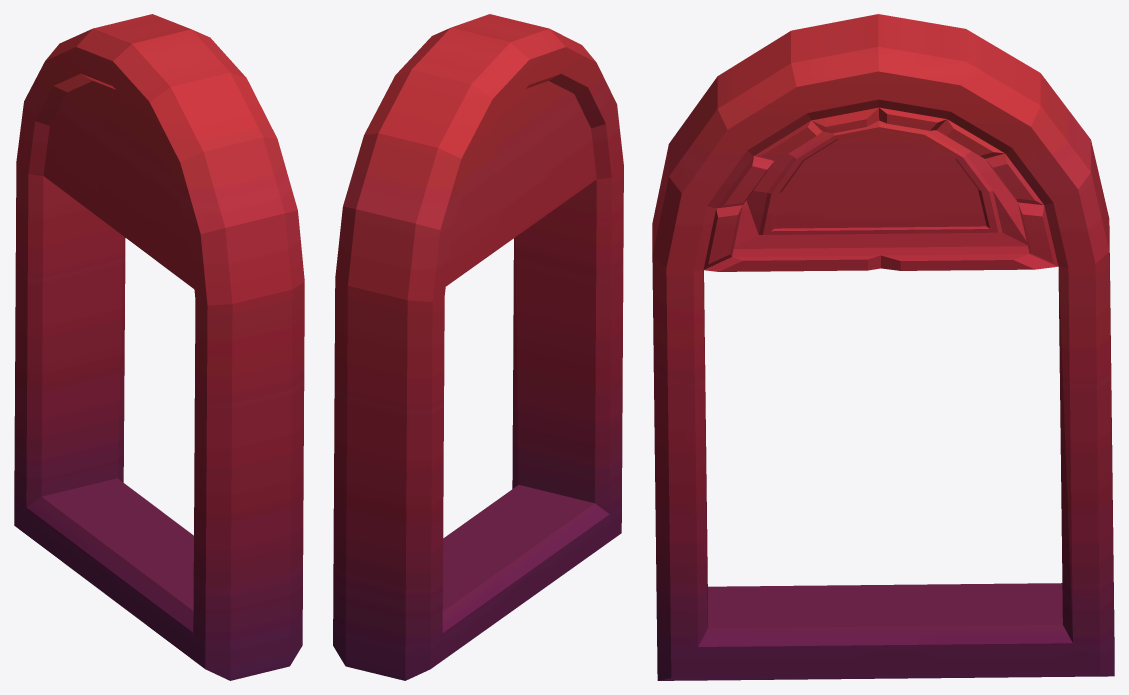
File: hell2.fbx
3 renders of one model, left to right at view 1: azimuth 30°, elevation 25°; view 2: azimuth 150°, elevation 25°; view 3: azimuth 270°, elevation 25°, orthographic. The views are drawn at different scales.
Visible parts, largest first — view 1: Cube_053_5; view 2: Cube_053_5; view 3: Cube_053_5.
Part boxes in pixels (box(x1,y1,x2,y2)): Cube_053_5: box(14, 14, 304, 680); Cube_053_5: box(333, 14, 623, 680); Cube_053_5: box(652, 14, 1114, 680).
Size of the model in its own units: 213 by 1092 by 721.
